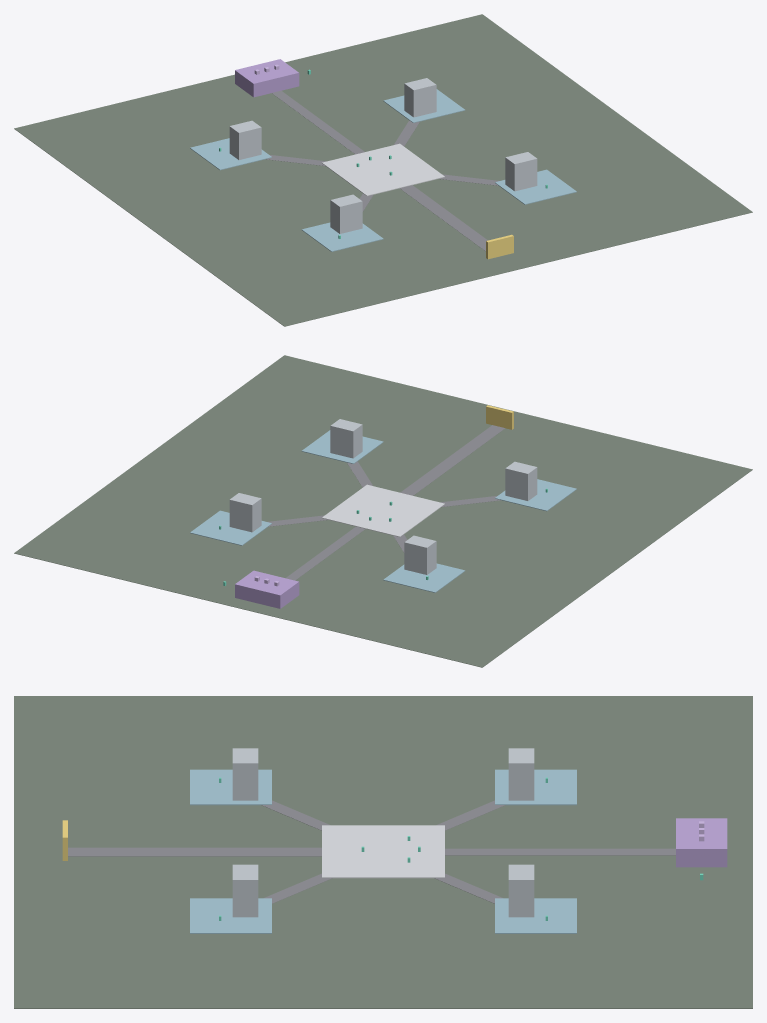
The model's file is diagnostic-x.glb.
3 views of the same model, one above another, from view 1: azimuth 30°, elevation 25°; view 2: azimuth 150°, elevation 25°; view 3: azimuth 270°, elevation 25° (orthographic). The views are drawn at different scales.
Parts seen in each view (by area): view 1: ground:diagnostic-x, plaza:diagnostic-x/floor, council:diagnostic-x/chamber, zone:diagnostic-x/medical-kiosk/pad, zone:diagnostic-x/metaverse-medical-office/pad, zone:diagnostic-x/virtual-molecular-lab/hall, zone:diagnostic-x/medical-kiosk/hall, zone:diagnostic-x/4d-imaging-room/hall, zone:diagnostic-x/metaverse-medical-office/hall, road:diagnostic-x/gate, zone:diagnostic-x/4d-imaging-room/pad, zone:diagnostic-x/virtual-molecular-lab/pad (+2 smaller); view 2: ground:diagnostic-x, plaza:diagnostic-x/floor, council:diagnostic-x/chamber, zone:diagnostic-x/4d-imaging-room/pad, road:diagnostic-x/gate, zone:diagnostic-x/virtual-molecular-lab/pad, zone:diagnostic-x/metaverse-medical-office/hall, zone:diagnostic-x/medical-kiosk/hall, zone:diagnostic-x/4d-imaging-room/hall, zone:diagnostic-x/virtual-molecular-lab/hall, zone:diagnostic-x/medical-kiosk/pad, zone:diagnostic-x/metaverse-medical-office/pad (+2 smaller); view 3: ground:diagnostic-x, plaza:diagnostic-x/floor, road:diagnostic-x/gate, council:diagnostic-x/chamber, zone:diagnostic-x/virtual-molecular-lab/pad, zone:diagnostic-x/metaverse-medical-office/pad, zone:diagnostic-x/medical-kiosk/pad, zone:diagnostic-x/4d-imaging-room/pad, road:diagnostic-x/council, zone:diagnostic-x/virtual-molecular-lab/hall, zone:diagnostic-x/metaverse-medical-office/hall, zone:diagnostic-x/medical-kiosk/hall (+5 smaller).
Part boxes in pixels (left/top/right/bottom): ground:diagnostic-x: left=14, top=14, right=752, bottom=326; plaza:diagnostic-x/floor: left=322, top=143, right=444, bottom=195; council:diagnostic-x/chamber: left=235, top=59, right=299, bottom=97; zone:diagnostic-x/medical-kiosk/pad: left=301, top=222, right=383, bottom=251; zone:diagnostic-x/metaverse-medical-office/pad: left=495, top=169, right=576, bottom=204; zone:diagnostic-x/virtual-molecular-lab/hall: left=404, top=78, right=436, bottom=117; zone:diagnostic-x/medical-kiosk/hall: left=330, top=194, right=362, bottom=233; zone:diagnostic-x/4d-imaging-room/hall: left=229, top=120, right=261, bottom=159; zone:diagnostic-x/metaverse-medical-office/hall: left=505, top=152, right=537, bottom=191; road:diagnostic-x/gate: left=400, top=185, right=487, bottom=251; zone:diagnostic-x/4d-imaging-room/pad: left=190, top=138, right=271, bottom=170; zone:diagnostic-x/virtual-molecular-lab/pad: left=383, top=89, right=465, bottom=122; ground:diagnostic-x: left=14, top=355, right=752, bottom=667; plaza:diagnostic-x/floor: left=322, top=484, right=444, bottom=536; council:diagnostic-x/chamber: left=235, top=570, right=299, bottom=608; zone:diagnostic-x/4d-imaging-room/pad: left=383, top=563, right=465, bottom=592; road:diagnostic-x/gate: left=400, top=425, right=505, bottom=495; zone:diagnostic-x/virtual-molecular-lab/pad: left=190, top=510, right=271, bottom=545; zone:diagnostic-x/metaverse-medical-office/hall: left=330, top=419, right=362, bottom=458; zone:diagnostic-x/medical-kiosk/hall: left=505, top=461, right=537, bottom=500; zone:diagnostic-x/4d-imaging-room/hall: left=404, top=535, right=436, bottom=574; zone:diagnostic-x/virtual-molecular-lab/hall: left=229, top=493, right=261, bottom=532; zone:diagnostic-x/medical-kiosk/pad: left=495, top=479, right=576, bottom=511; zone:diagnostic-x/metaverse-medical-office/pad: left=301, top=430, right=383, bottom=463; ground:diagnostic-x: left=14, top=696, right=752, bottom=1008; plaza:diagnostic-x/floor: left=322, top=825, right=444, bottom=878; road:diagnostic-x/gate: left=68, top=847, right=321, bottom=856; council:diagnostic-x/chamber: left=676, top=818, right=727, bottom=867; zone:diagnostic-x/virtual-molecular-lab/pad: left=495, top=898, right=576, bottom=933; zone:diagnostic-x/metaverse-medical-office/pad: left=190, top=898, right=271, bottom=933; zone:diagnostic-x/medical-kiosk/pad: left=190, top=769, right=271, bottom=805; zone:diagnostic-x/4d-imaging-room/pad: left=495, top=769, right=576, bottom=805; road:diagnostic-x/council: left=445, top=848, right=675, bottom=855; zone:diagnostic-x/virtual-molecular-lab/hall: left=508, top=864, right=534, bottom=917; zone:diagnostic-x/metaverse-medical-office/hall: left=232, top=864, right=258, bottom=917; zone:diagnostic-x/medical-kiosk/hall: left=232, top=748, right=258, bottom=800.
Size of the model in its own units: 288 by 16.6 by 288.
